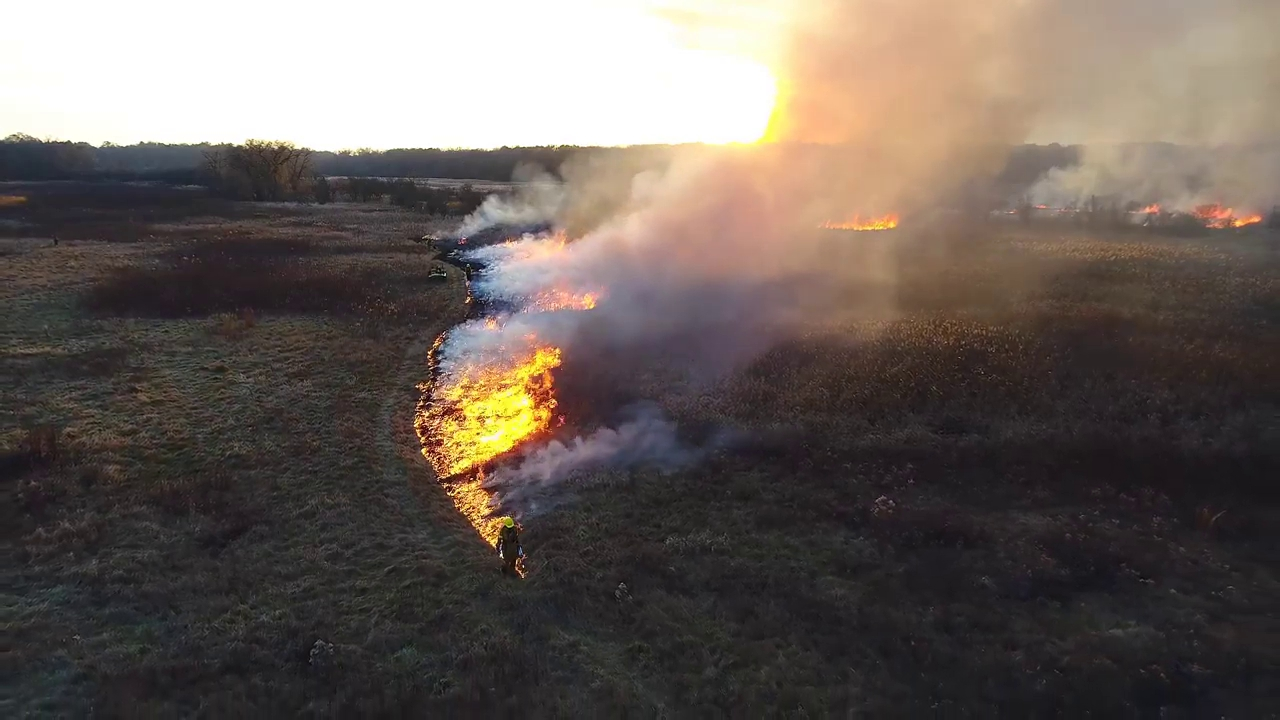forest_fire: (414, 290, 599, 542), (1190, 205, 1265, 228), (820, 214, 899, 230)
